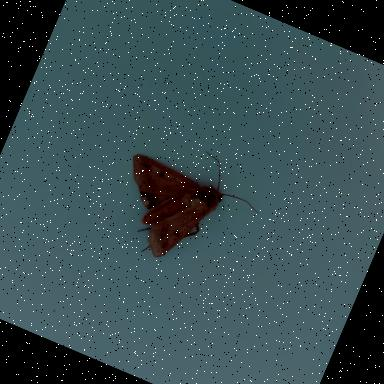abw: (97, 123, 276, 291)
